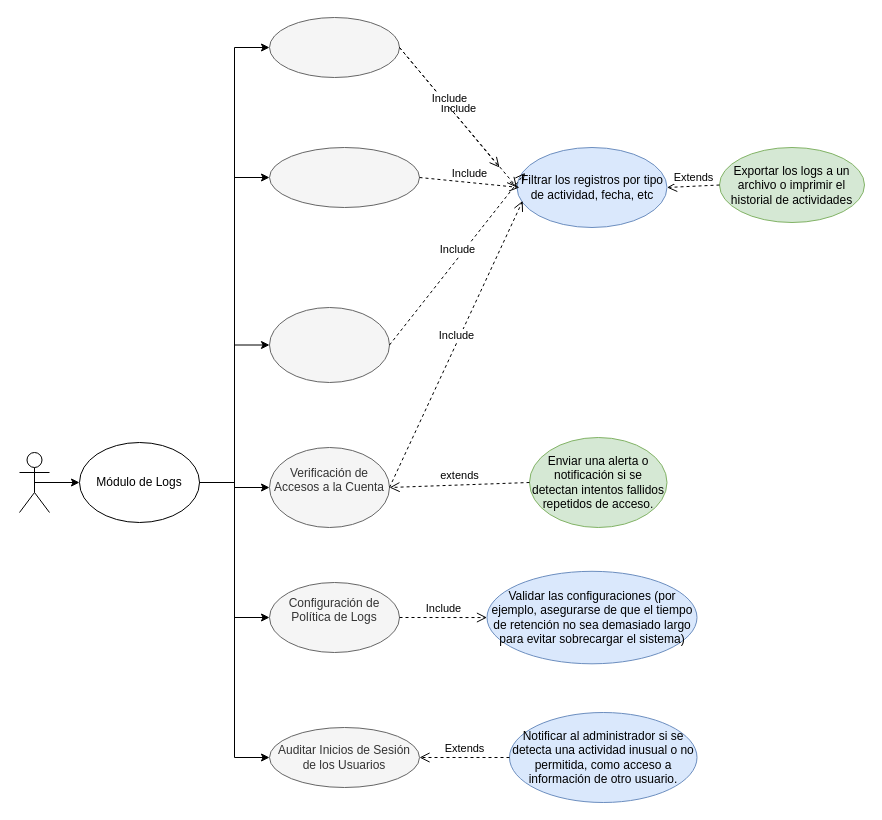
This 882x820 diagram has some shape labels left out. Each missing label, with the centre of its shape:
"Admin" goes at [34,482].
"Monitorizar Errores y Alertas del Sistema" goes at [344,177].
"Visualizar Logs de Actividades Personales" goes at [334,47].
"Visualizar Logs del Sistema" goes at [329,344].
